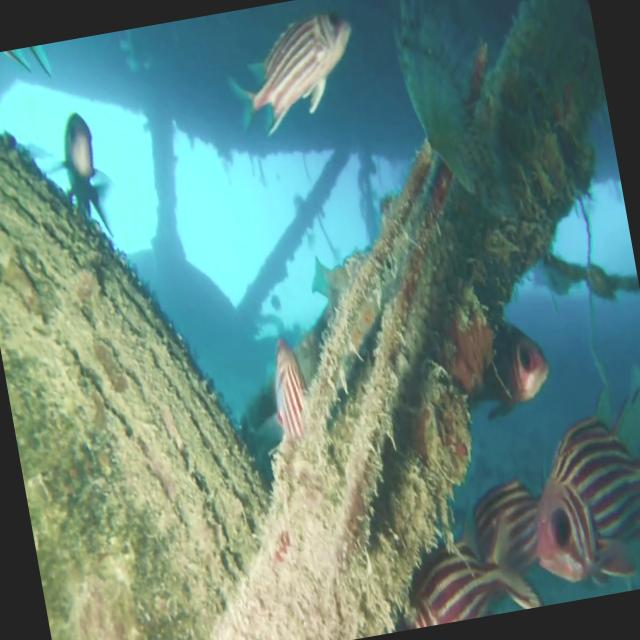Asker Baligi: (508, 399, 640, 593), (218, 5, 368, 144)
